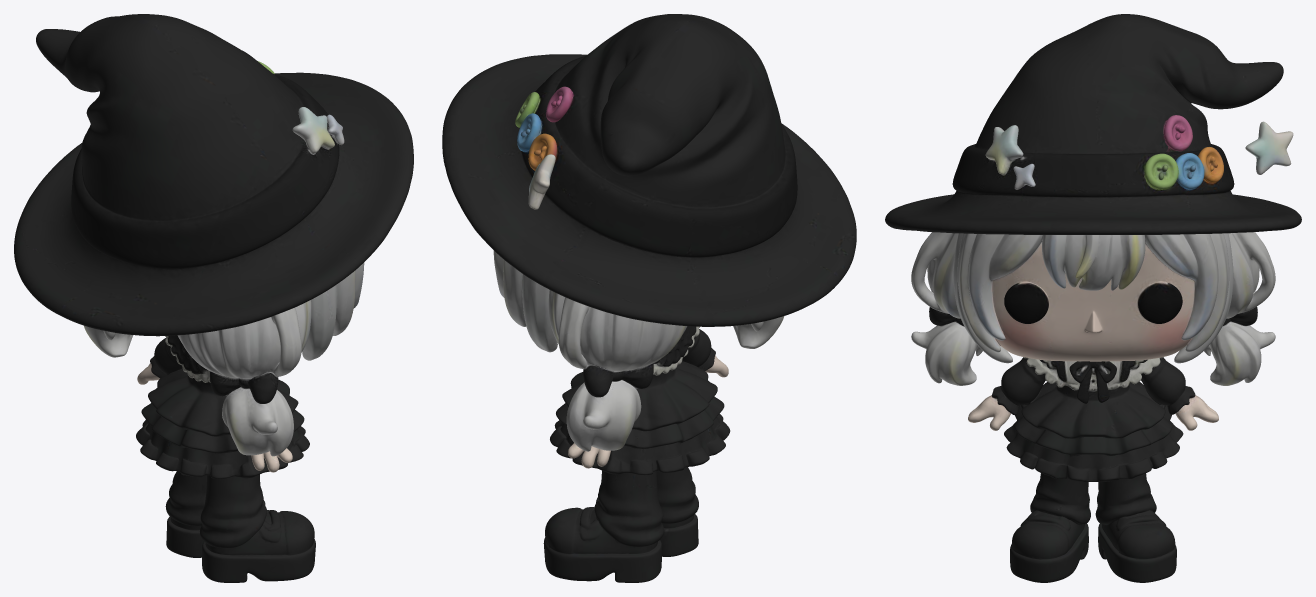
Rendered from inspiration-414.glb.
The picture shows the model from 3 angles, left to right: view 1: azimuth 30°, elevation 25°; view 2: azimuth 150°, elevation 25°; view 3: azimuth 270°, elevation 25°; orthographic projection. The views are drawn at different scales.
Parts seen in each view (by area): view 1: tripo_node_42b7fdfb-c1d8-43df-80ee-da128850b6ea; view 2: tripo_node_42b7fdfb-c1d8-43df-80ee-da128850b6ea; view 3: tripo_node_42b7fdfb-c1d8-43df-80ee-da128850b6ea.
Boxes of the visible parts, x1,y1,x2,y2 form: tripo_node_42b7fdfb-c1d8-43df-80ee-da128850b6ea: (14,14,413,582); tripo_node_42b7fdfb-c1d8-43df-80ee-da128850b6ea: (442,14,856,582); tripo_node_42b7fdfb-c1d8-43df-80ee-da128850b6ea: (885,14,1301,582).
Bounding box in the file's own units: 0.6636 × 1 × 0.7356.
1 material, 1 textured.
